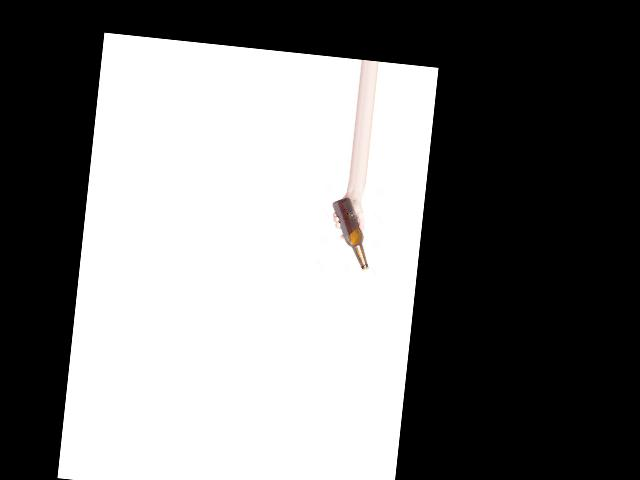beer: (326, 196, 376, 271)
